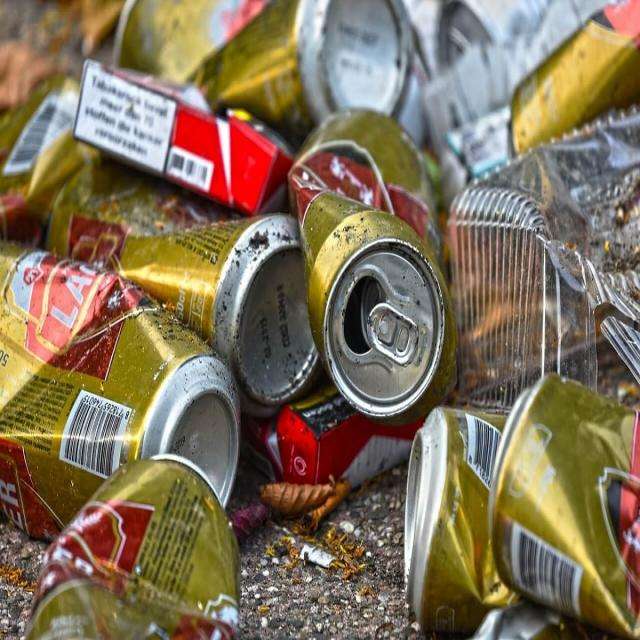Lata: (0, 240, 241, 547), (42, 147, 315, 410), (401, 371, 640, 640), (283, 106, 457, 416), (27, 451, 239, 640)
